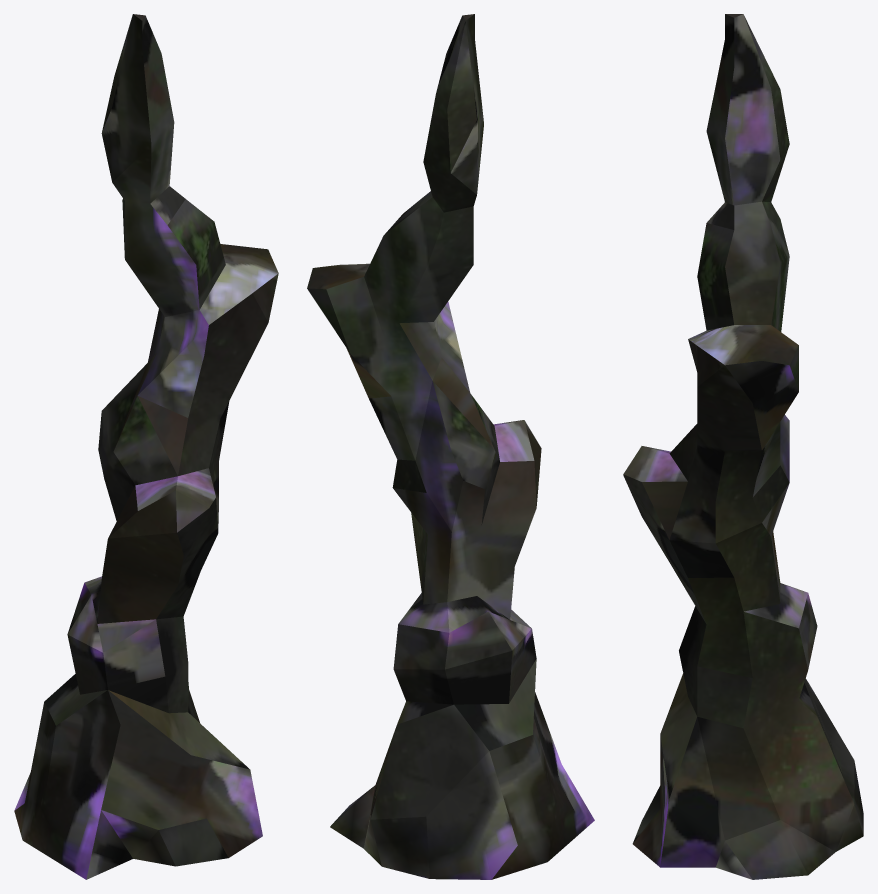
The model's file is BGEAsset5.fbx.
3 views of the same model, side by side, from view 1: azimuth 30°, elevation 25°; view 2: azimuth 150°, elevation 25°; view 3: azimuth 270°, elevation 25° (orthographic).
Parts seen in each view (by area): view 1: BGEAsset.006; view 2: BGEAsset.006; view 3: BGEAsset.006.
Part boxes in pixels (x1,y1,x2,y2): BGEAsset.006: (14,14,278,879); BGEAsset.006: (307,14,594,879); BGEAsset.006: (623,14,863,879).
Size of the model in its own units: 5.86 by 18.91 by 5.08.
1 material, 1 textured.
